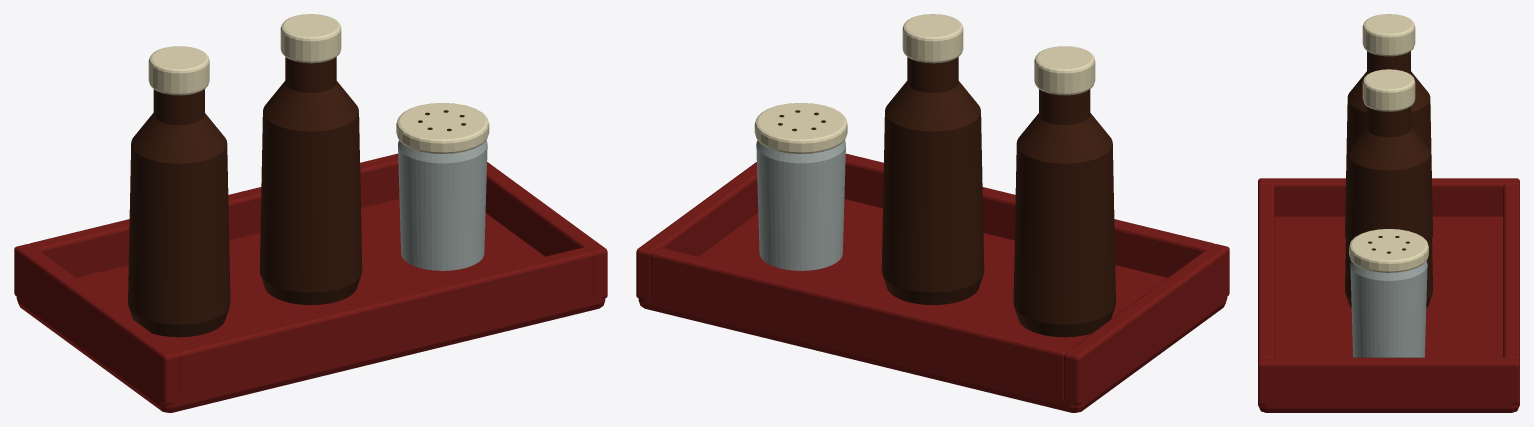
3 views of the same model, side by side, from view 1: azimuth 30°, elevation 25°; view 2: azimuth 150°, elevation 25°; view 3: azimuth 270°, elevation 25° (orthographic). The views are drawn at different scales.
Parts seen in each view (by area): view 1: TRAY_End, BOTTLE_Sauce, BOTTLE_Sauce.001, TRAY_Base, SHAKER_Body, TRAY_Side, TRAY_End.001, TRAY_Side.001, SHAKER_Cap, CAP_Sauce.001, CAP_Sauce; view 2: TRAY_End.001, BOTTLE_Sauce, BOTTLE_Sauce.001, TRAY_Base, SHAKER_Body, TRAY_Side, TRAY_End, TRAY_Side.001, SHAKER_Cap, CAP_Sauce.001, CAP_Sauce; view 3: TRAY_Base, TRAY_Side.001, BOTTLE_Sauce, SHAKER_Body, TRAY_Side, BOTTLE_Sauce.001, TRAY_End, TRAY_End.001, SHAKER_Cap, CAP_Sauce.001, CAP_Sauce.
Part boxes in pixels (x1=…): TRAY_End: x1=172, y1=247, x2=593, y2=399; BOTTLE_Sauce: x1=259, y1=57, x2=362, y2=304; BOTTLE_Sauce.001: x1=128, y1=89, x2=230, y2=337; TRAY_Base: x1=16, y1=199, x2=605, y2=412; SHAKER_Body: x1=398, y1=140, x2=487, y2=270; TRAY_Side: x1=14, y1=244, x2=179, y2=404; TRAY_End.001: x1=29, y1=153, x2=399, y2=277; TRAY_Side.001: x1=485, y1=162, x2=607, y2=298; SHAKER_Cap: x1=396, y1=103, x2=489, y2=153; CAP_Sauce.001: x1=148, y1=46, x2=209, y2=95; CAP_Sauce: x1=280, y1=14, x2=341, y2=63; TRAY_End.001: x1=650, y1=247, x2=1071, y2=399; BOTTLE_Sauce: x1=881, y1=57, x2=984, y2=304; BOTTLE_Sauce.001: x1=1013, y1=89, x2=1115, y2=337; TRAY_Base: x1=638, y1=199, x2=1227, y2=412; SHAKER_Body: x1=756, y1=140, x2=845, y2=270; TRAY_Side: x1=1064, y1=244, x2=1229, y2=404; TRAY_End: x1=844, y1=153, x2=1214, y2=277; TRAY_Side.001: x1=636, y1=162, x2=758, y2=298; SHAKER_Cap: x1=754, y1=103, x2=847, y2=153; CAP_Sauce.001: x1=1034, y1=46, x2=1095, y2=95; CAP_Sauce: x1=902, y1=14, x2=963, y2=63; TRAY_Base: x1=1258, y1=216, x2=1519, y2=412; TRAY_Side.001: x1=1258, y1=357, x2=1519, y2=404; BOTTLE_Sauce: x1=1345, y1=106, x2=1432, y2=308; SHAKER_Body: x1=1350, y1=261, x2=1427, y2=357; TRAY_Side: x1=1258, y1=178, x2=1519, y2=216; BOTTLE_Sauce.001: x1=1345, y1=51, x2=1432, y2=238; TRAY_End: x1=1258, y1=184, x2=1274, y2=359; TRAY_End.001: x1=1503, y1=184, x2=1519, y2=359; SHAKER_Cap: x1=1349, y1=229, x2=1428, y2=272; CAP_Sauce.001: x1=1362, y1=14, x2=1415, y2=56; CAP_Sauce: x1=1362, y1=69, x2=1415, y2=111.
Bounding box in the file's own units: 0.32 × 0.195 × 0.19.
